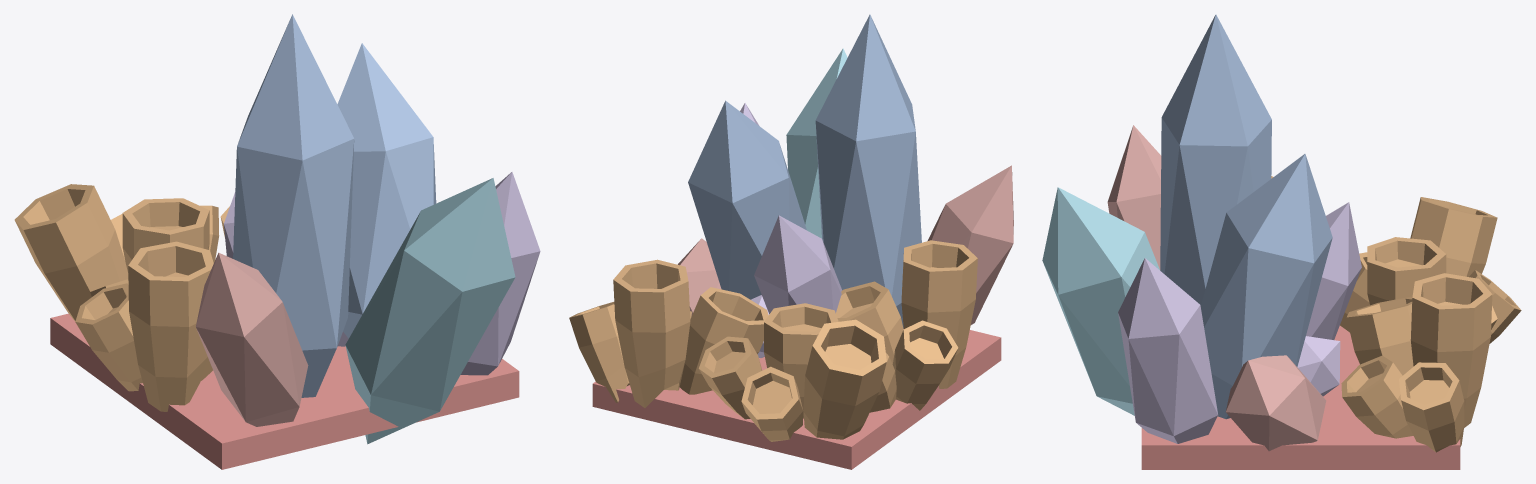
The model's file is reef5.fbx.
3 views of the same model, side by side, from view 1: azimuth 30°, elevation 25°; view 2: azimuth 150°, elevation 25°; view 3: azimuth 270°, elevation 25° (orthographic). The views are drawn at different scales.
Parts seen in each view (by area): view 1: reef_block_1.001; view 2: reef_block_1.001; view 3: reef_block_1.001.
Boxes of the visible parts, x1,y1,x2,y2 form: reef_block_1.001: (14, 14, 540, 469); reef_block_1.001: (569, 14, 1013, 469); reef_block_1.001: (1042, 14, 1521, 469).
Size of the model in its own units: 14.29 by 15.74 by 16.88.
